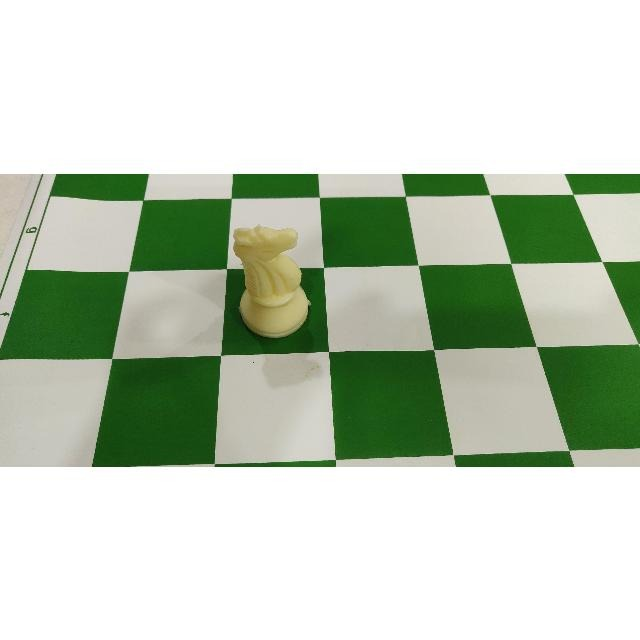white-knight: (226, 223, 318, 343)
